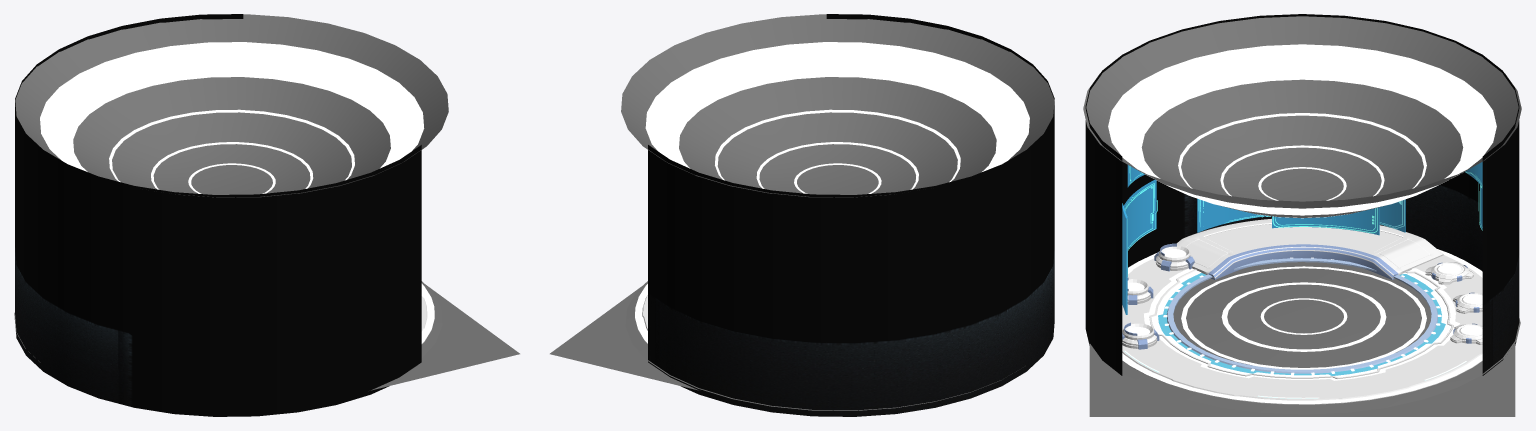
The model's file is hall.gltf.
3 views of the same model, side by side, from view 1: azimuth 30°, elevation 25°; view 2: azimuth 150°, elevation 25°; view 3: azimuth 270°, elevation 25° (orthographic).
Visible parts, largest first — view 1: 柱体.004, 柱体.005, 柱体, 柱体.006, FloorTile_Side; view 2: 柱体.004, 柱体.005, 柱体, 柱体.006, FloorTile_Side; view 3: 柱体.005, 柱体.004, 柱体.006, FloorTile_Side, KB3D_HTS_BldgMD_E_Main, 柱体, KB3D_HTS_BldgLG_C_HoloProjectorD.008, KB3D_HTS_BldgLG_C_HoloProjectorD.003, KB3D_HTS_BldgLG_C_HoloProjectorD.011, Props_Pod.001, Props_Pod.003, Props_Base (+4 smaller).
Part boxes in pixels (box(x1,y1,x2,y2)): 柱体.004: box(15, 14, 421, 416); 柱体.005: box(15, 14, 448, 197); 柱体: box(371, 285, 519, 390); 柱体.006: box(14, 281, 442, 362); FloorTile_Side: box(421, 283, 434, 344); 柱体.004: box(648, 14, 1054, 416); 柱体.005: box(621, 14, 1054, 197); 柱体: box(550, 286, 698, 390); 柱体.006: box(625, 281, 1016, 410); FloorTile_Side: box(635, 284, 647, 343); 柱体.005: box(1083, 16, 1521, 218); 柱体.004: box(1085, 14, 1519, 375); 柱体.006: box(1122, 262, 1520, 414); FloorTile_Side: box(1122, 249, 1482, 404); KB3D_HTS_BldgMD_E_Main: box(1177, 218, 1443, 279); 柱体: box(1089, 343, 1515, 416); KB3D_HTS_BldgLG_C_HoloProjectorD.008: box(1197, 198, 1405, 232); KB3D_HTS_BldgLG_C_HoloProjectorD.003: box(1123, 179, 1157, 250); KB3D_HTS_BldgLG_C_HoloProjectorD.011: box(1272, 207, 1379, 235); Props_Pod.001: box(1154, 243, 1194, 271); Props_Pod.003: box(1122, 322, 1159, 349); Props_Base: box(1425, 262, 1473, 284).
Size of the model in its own units: 15.65 by 8.81 by 15.63.
Materials: 23 (6 with a texture image).
